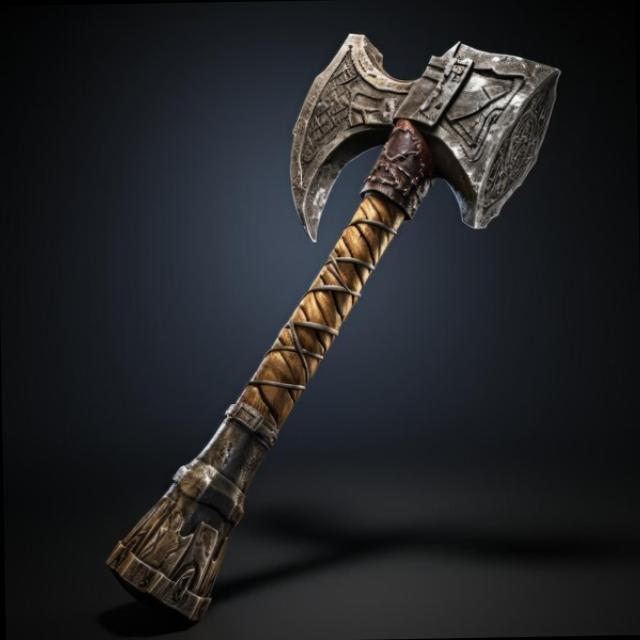Gun: (87, 24, 582, 638)
